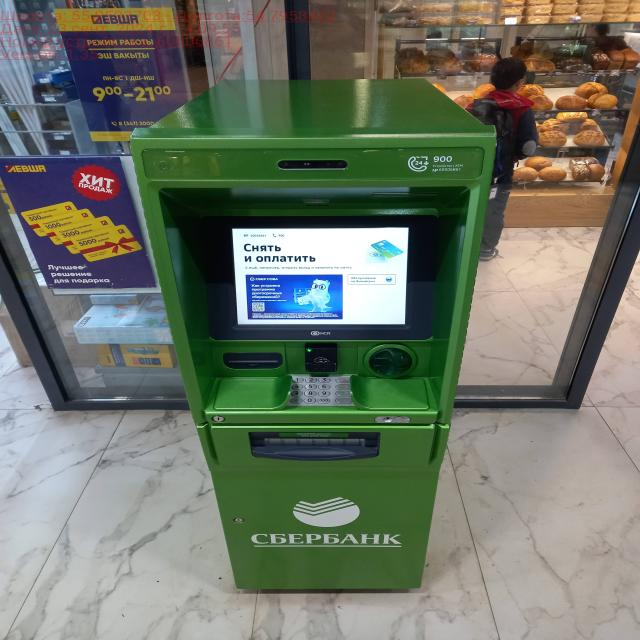bank: (124, 72, 503, 594)
